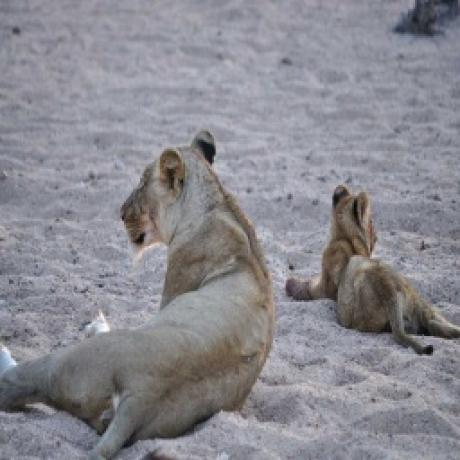Lion: (0, 129, 273, 460), (289, 184, 460, 350)
